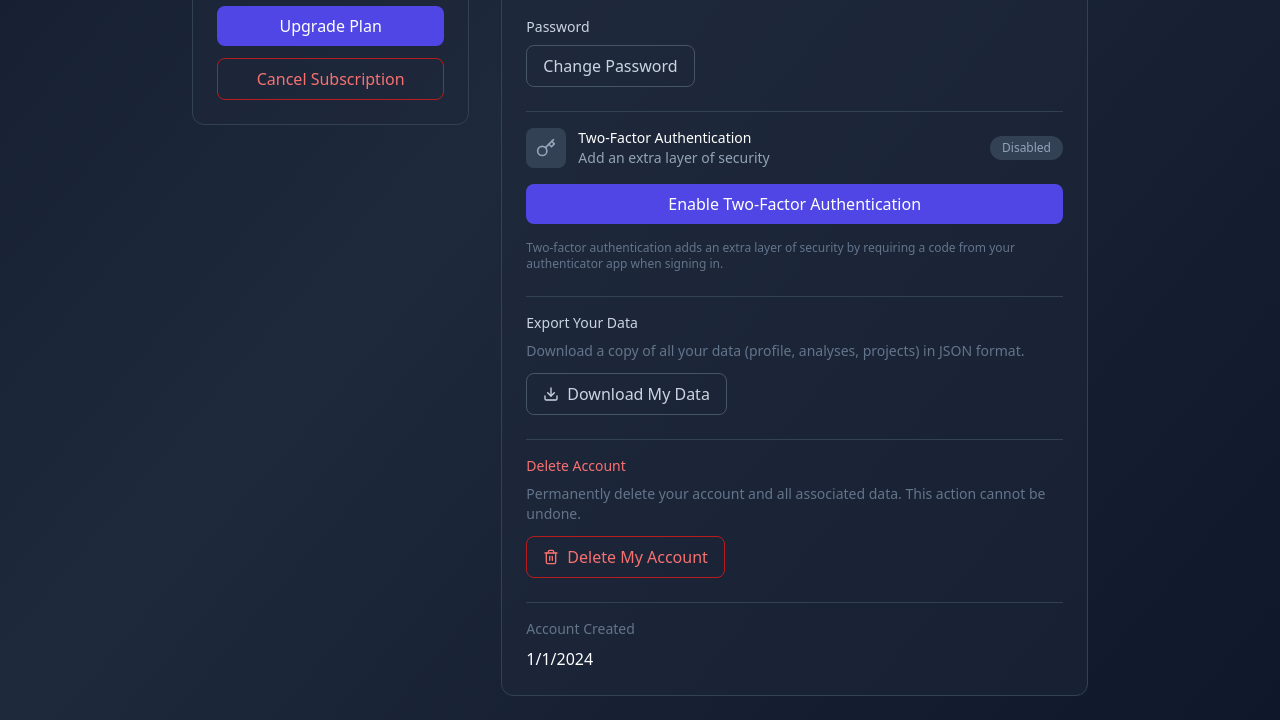
AccountPage GDPR Features › Account Deletion Feature › should show error message when deletion fails
(page scrolled)
Click the button "Delete My Account" at {"x": 626, "y": 557}, box [526,536,725,578]
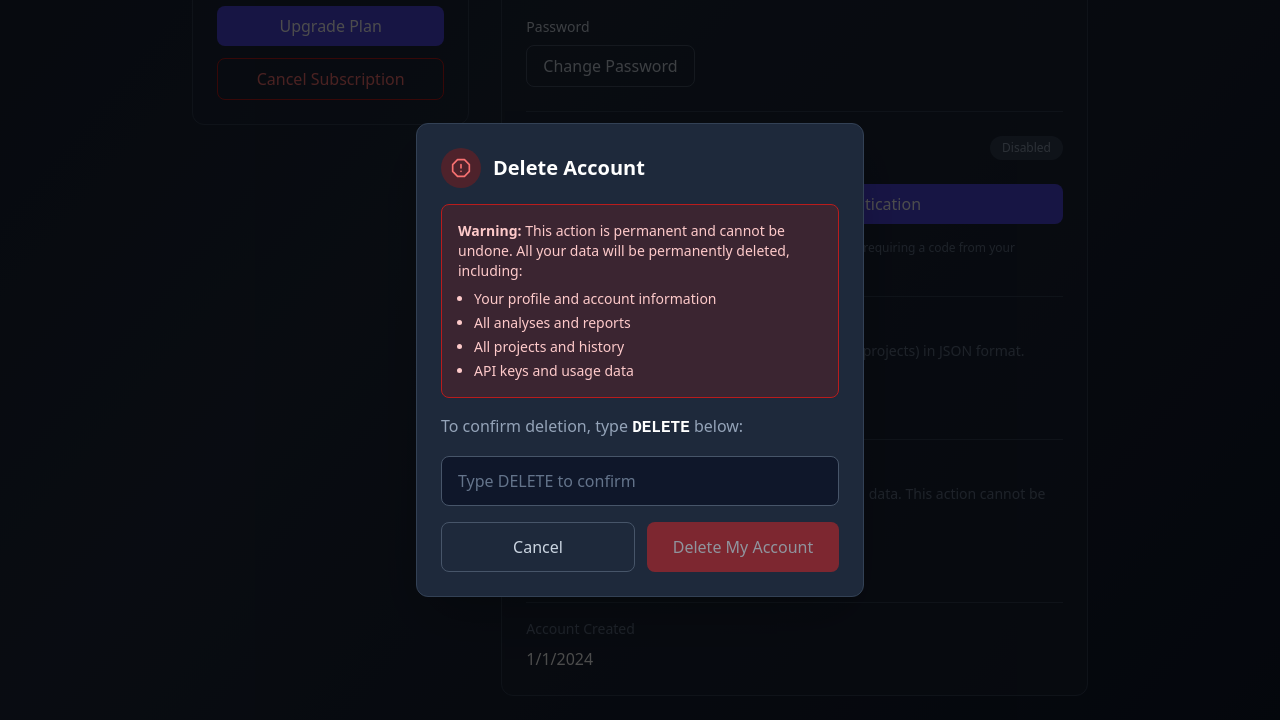
Type "DELETE" into the field with placeholder "Type DELETE to confirm" at {"x": 640, "y": 481}, box [441,456,839,506]
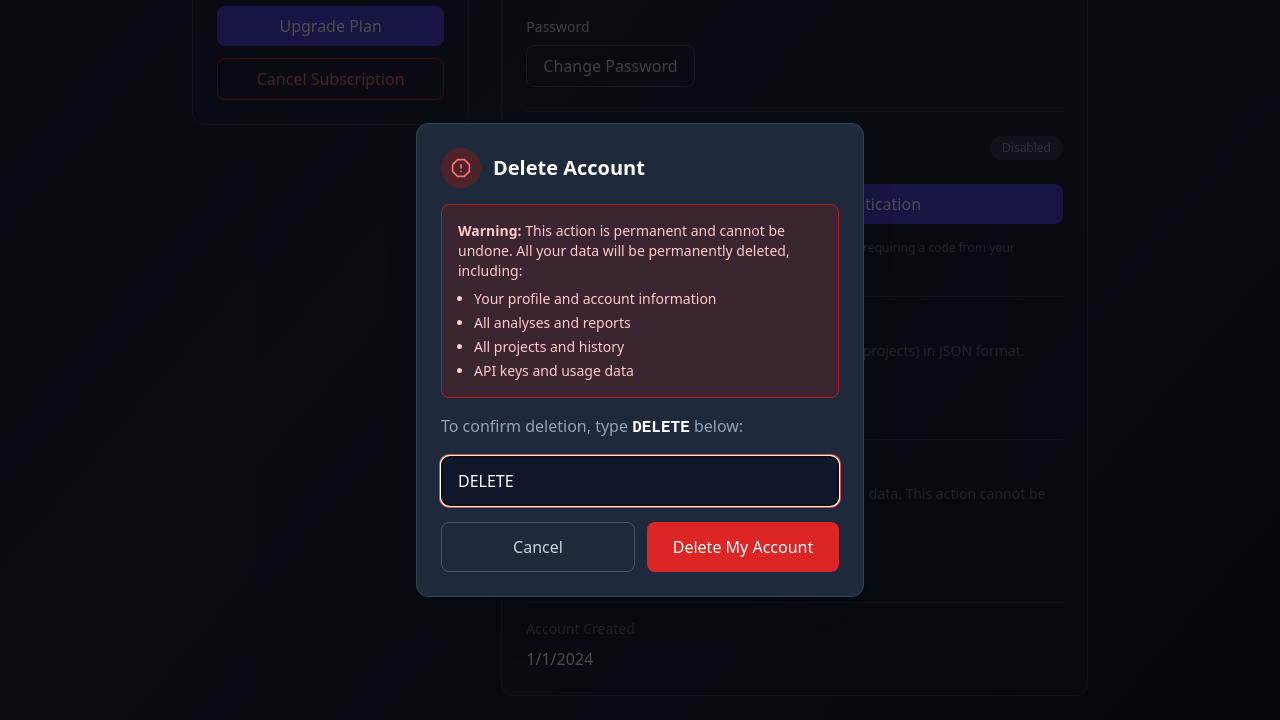
Click the button "Delete My Account" at {"x": 743, "y": 547}, box [647,522,839,572]
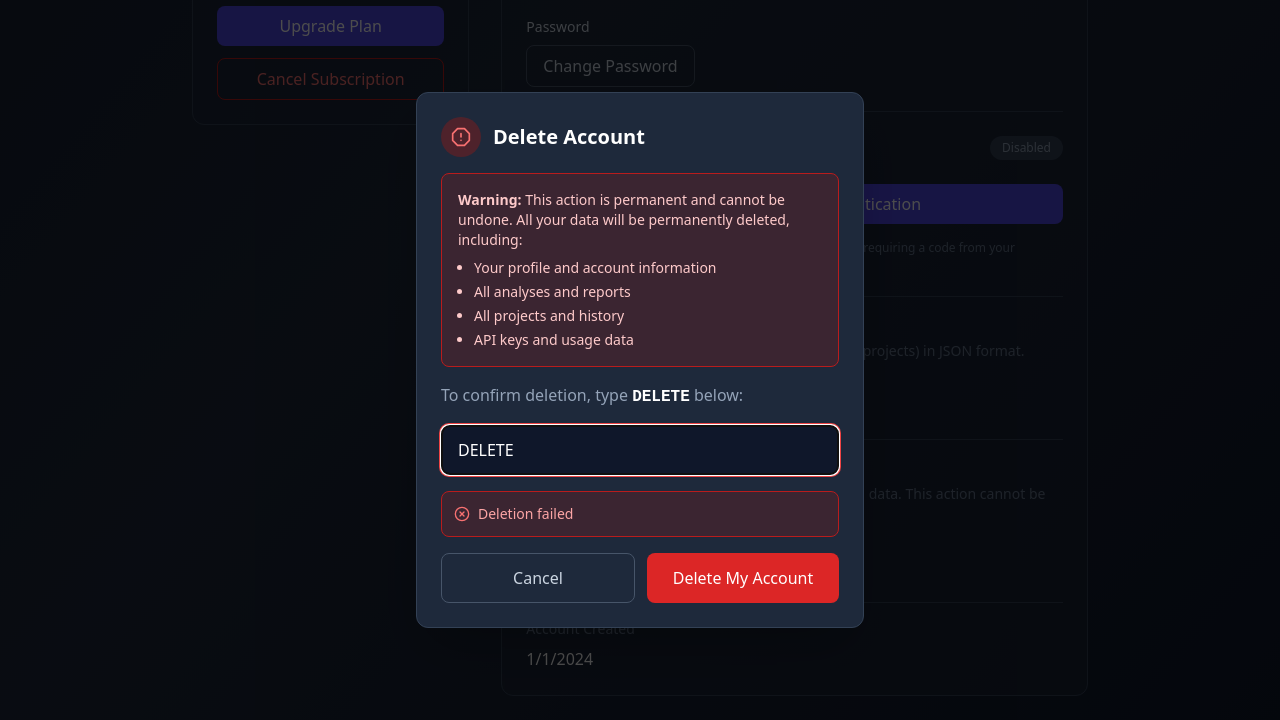
Expected: the text "Deletion failed" is shown, [478,504,574,524]
